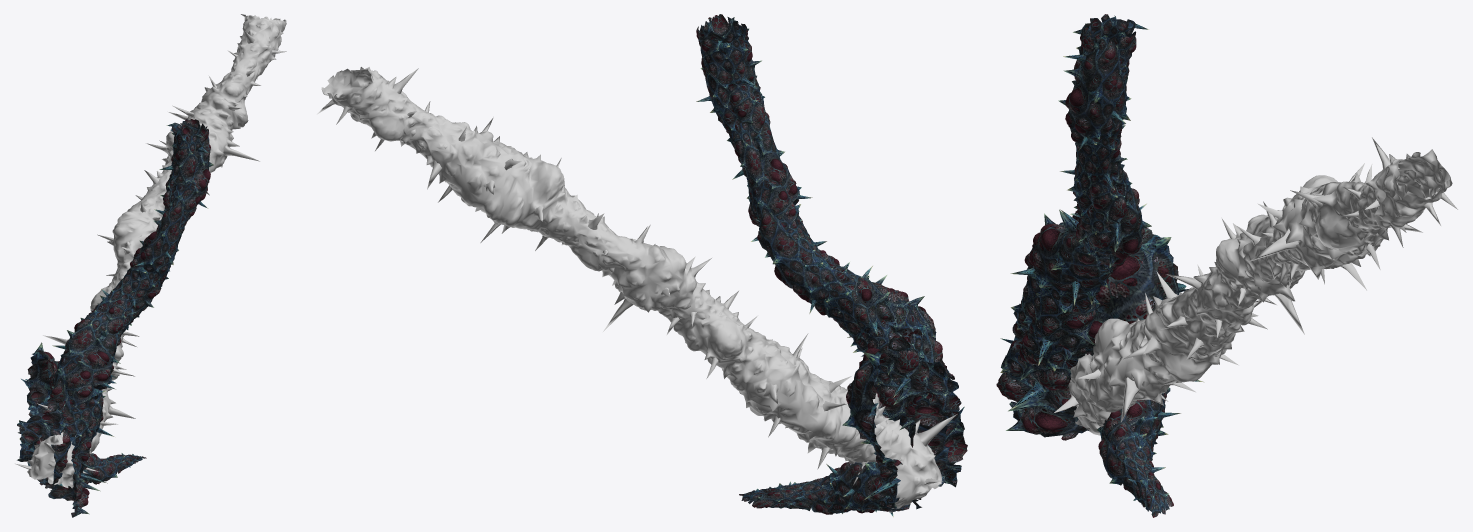
File: backup.fbx
The picture shows the model from 3 angles, left to right: view 1: azimuth 30°, elevation 25°; view 2: azimuth 150°, elevation 25°; view 3: azimuth 270°, elevation 25°; orthographic projection. The views are drawn at different scales.
Parts seen in each view (by area): view 1: LODGroup_1_MainMesh_1_SubMesh_1, LODGroup_1_MainMesh_1_SubMesh_3, LODGroup_1_MainMesh_1_SubMesh_2; view 2: LODGroup_1_MainMesh_1_SubMesh_3, LODGroup_1_MainMesh_1_SubMesh_2, LODGroup_1_MainMesh_1_SubMesh_1; view 3: LODGroup_1_MainMesh_1_SubMesh_3, LODGroup_1_MainMesh_1_SubMesh_1, LODGroup_1_MainMesh_1_SubMesh_2.
Part boxes in pixels (x1,y1,x2,y2): LODGroup_1_MainMesh_1_SubMesh_1: [17, 119, 210, 517]; LODGroup_1_MainMesh_1_SubMesh_3: [15, 14, 286, 488]; LODGroup_1_MainMesh_1_SubMesh_2: [17, 123, 213, 498]; LODGroup_1_MainMesh_1_SubMesh_3: [317, 67, 957, 512]; LODGroup_1_MainMesh_1_SubMesh_2: [700, 17, 964, 514]; LODGroup_1_MainMesh_1_SubMesh_1: [696, 14, 967, 517]; LODGroup_1_MainMesh_1_SubMesh_3: [1054, 137, 1457, 435]; LODGroup_1_MainMesh_1_SubMesh_1: [996, 22, 1204, 506]; LODGroup_1_MainMesh_1_SubMesh_2: [1000, 14, 1178, 517].
Bounding box in the file's own units: 1561 × 1382 × 1114.
